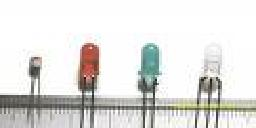LED: (196, 43, 227, 99), (76, 40, 105, 95), (135, 42, 164, 96)
